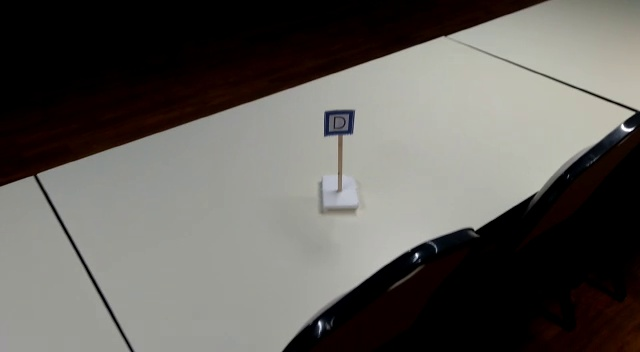durak: (324, 110, 353, 133)
